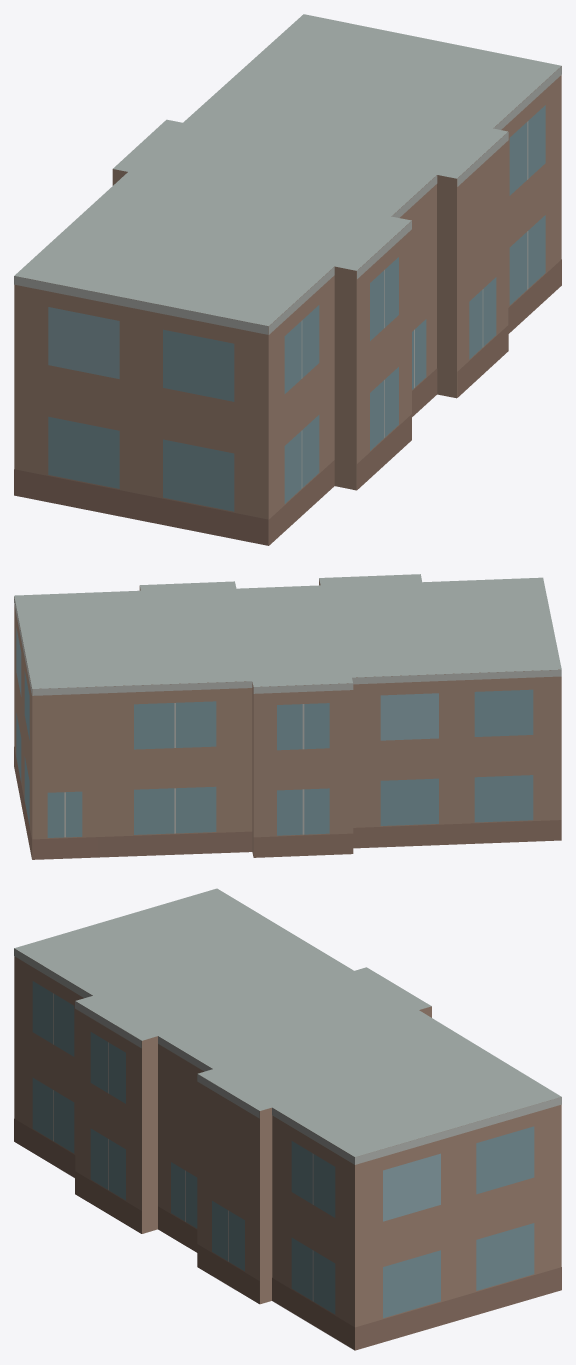
The model's file is survey-upis-32683061.glb.
The picture shows the model from 3 angles, top to bottom: view 1: azimuth 30°, elevation 25°; view 2: azimuth 150°, elevation 25°; view 3: azimuth 270°, elevation 25°; orthographic projection. The views are drawn at different scales.
Visible parts, largest first — view 1: survey-upis-32683061.tmp; view 2: survey-upis-32683061.tmp; view 3: survey-upis-32683061.tmp.
Boxes of the visible parts, x1,y1,x2,y2 form: survey-upis-32683061.tmp: [14, 14, 561, 545]; survey-upis-32683061.tmp: [14, 574, 561, 859]; survey-upis-32683061.tmp: [14, 888, 561, 1350].
Bounding box in the file's own units: 18.2 × 6.1 × 15.67.
